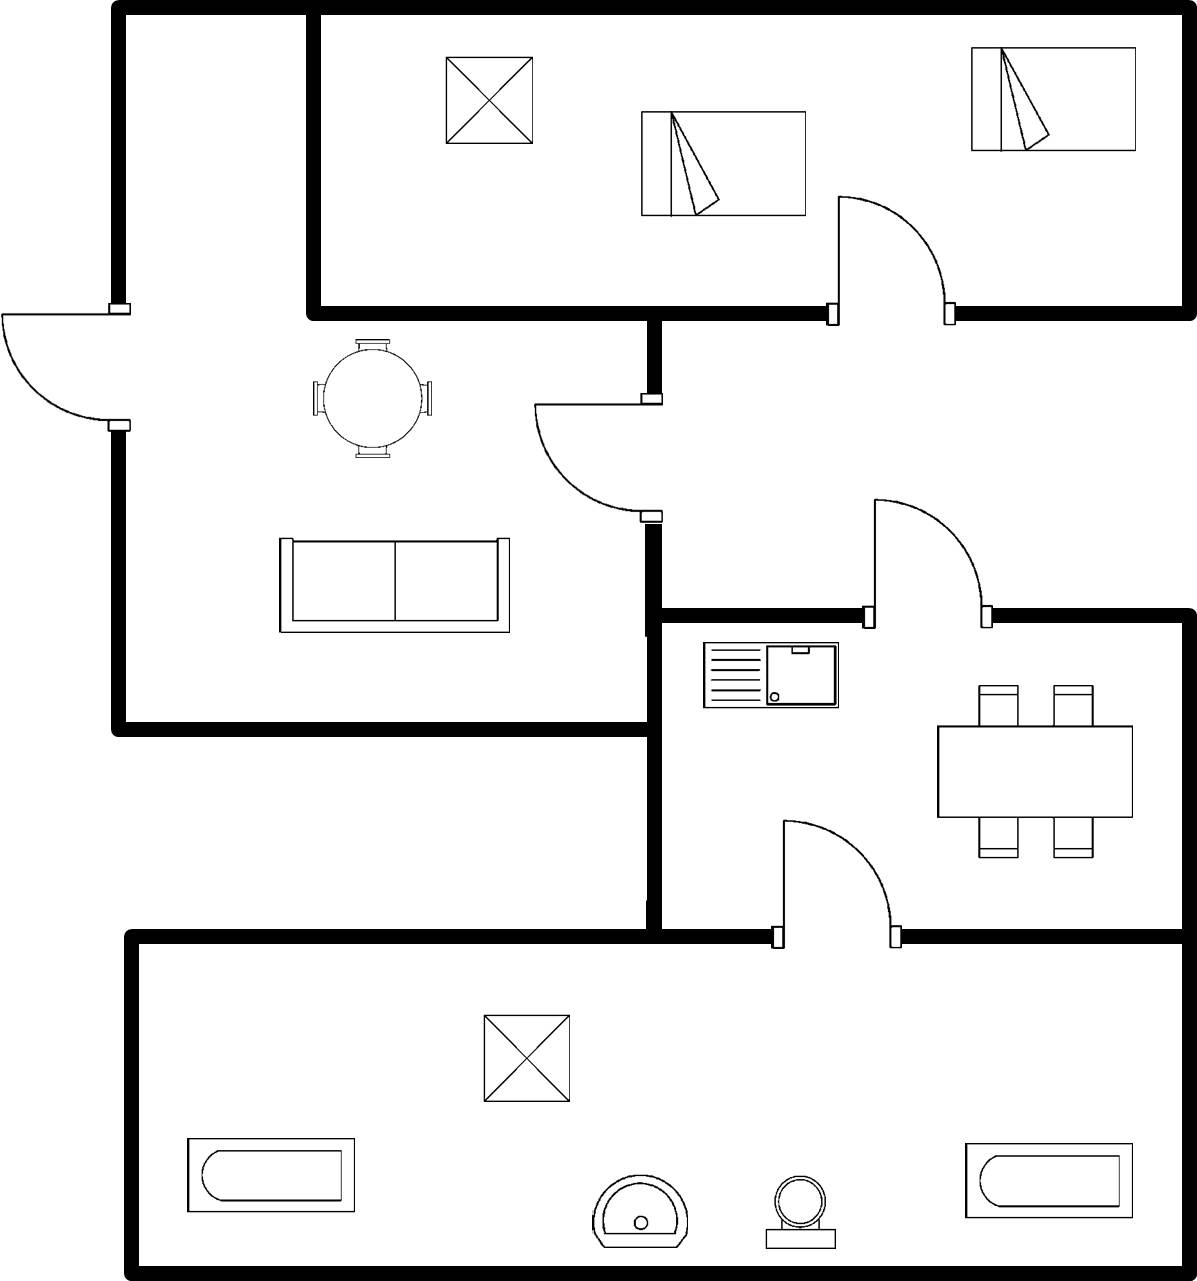bed: (959, 38, 1144, 163), (634, 104, 819, 228)
coffee_table: (429, 49, 545, 156), (473, 1006, 579, 1111)
dining_table: (925, 675, 1143, 869)
large_sink: (751, 1166, 853, 1258)
large_sofa: (268, 528, 520, 644)
round_table: (301, 330, 441, 469)
sink: (693, 633, 848, 720)
small_sink: (583, 1166, 696, 1256)
tub: (953, 1131, 1143, 1229), (179, 1131, 366, 1221)
